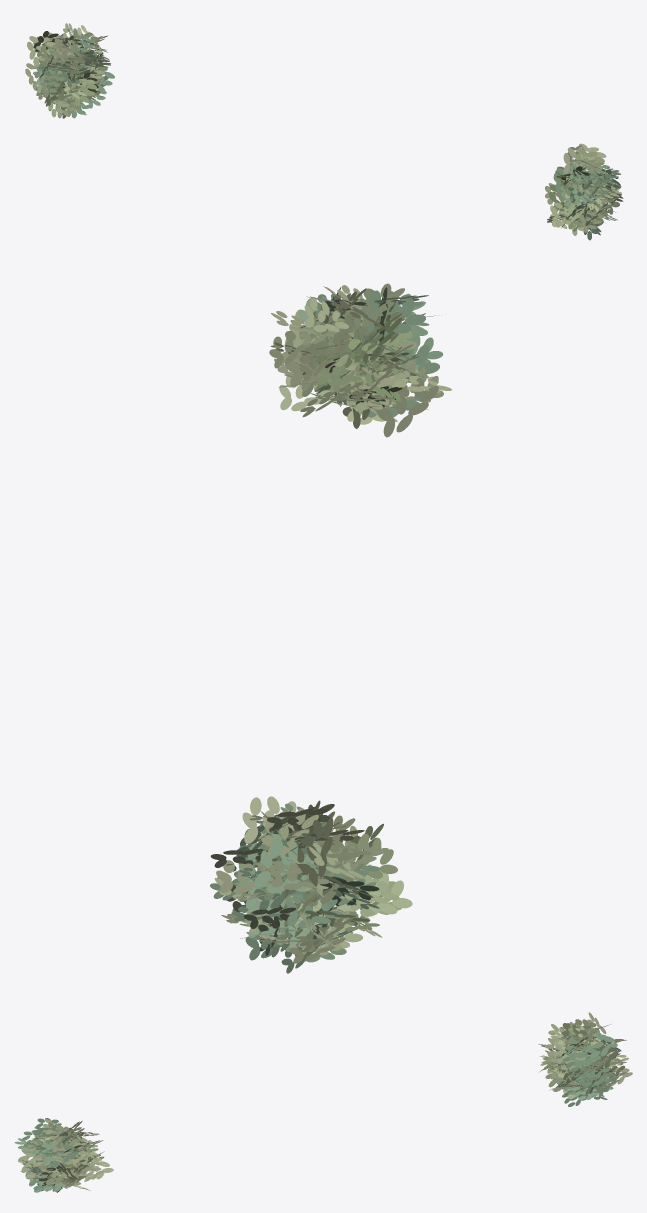
The model's file is campus-tree--3_-2-far.glb.
3 renders of one model, top to bottom at view 1: azimuth 30°, elevation 25°; view 2: azimuth 150°, elevation 25°; view 3: azimuth 270°, elevation 25°, orthographic. The views are drawn at different scales.
Visible parts, largest first — view 1: Campus leaf canopy; view 2: Campus leaf canopy; view 3: Campus leaf canopy.
Part boxes in pixels (left/top/right/bottom): Campus leaf canopy: left=25, top=23, right=623, bottom=240; Campus leaf canopy: left=210, top=283, right=451, bottom=973; Campus leaf canopy: left=14, top=1012, right=632, bottom=1192.
Bounding box in the file's own units: 20.54 × 6.29 × 35.17.
1 material, 1 textured.
